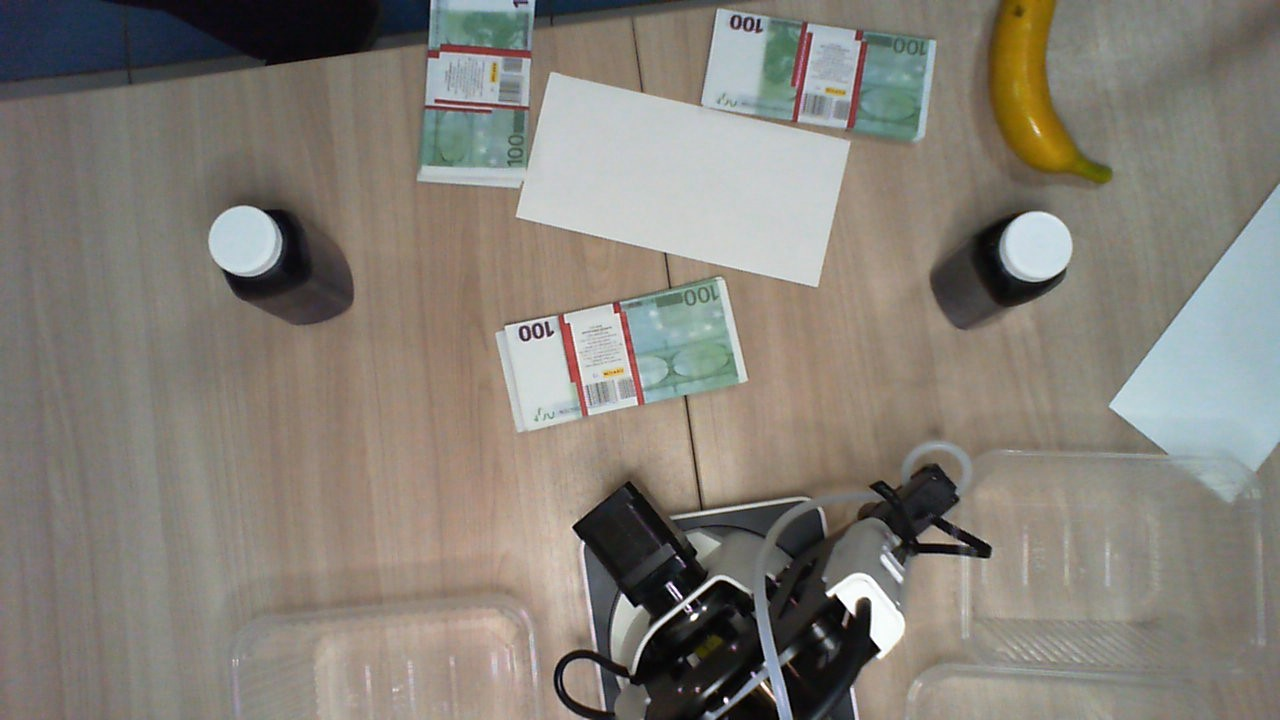banana: (979, 1, 1116, 191)
bottle: (207, 200, 308, 315), (968, 208, 1076, 306)
convert: (513, 70, 852, 284), (1109, 182, 1279, 502)
money: (493, 275, 748, 439), (699, 10, 937, 142), (415, 1, 536, 197)
